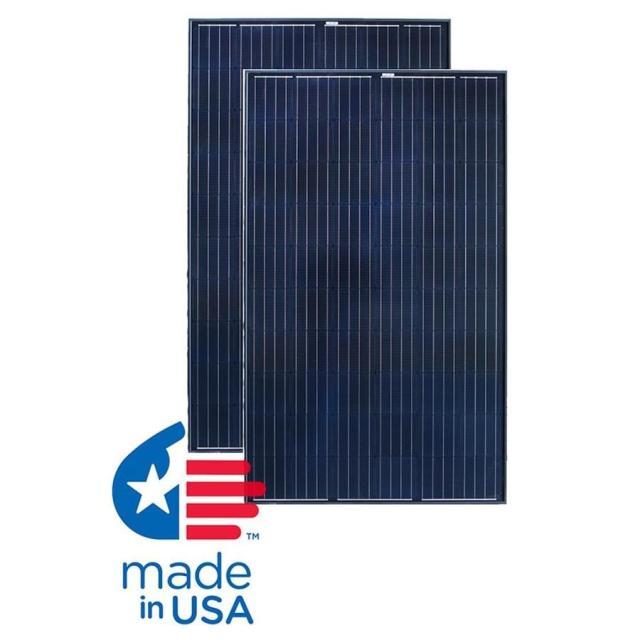clean-solar-panel: (190, 20, 505, 501)
